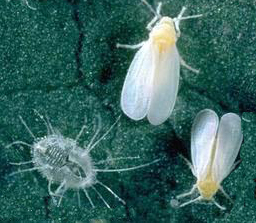whitefly: (116, 2, 203, 126), (176, 108, 243, 210)
